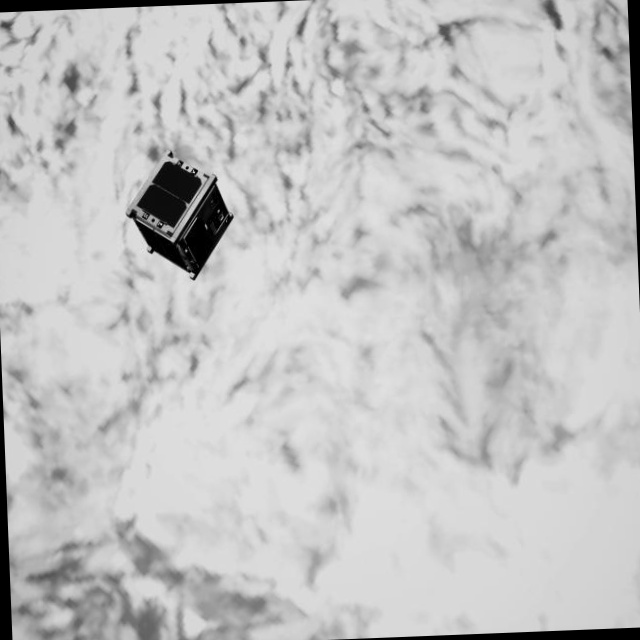medium_debris: (124, 151, 240, 282)
